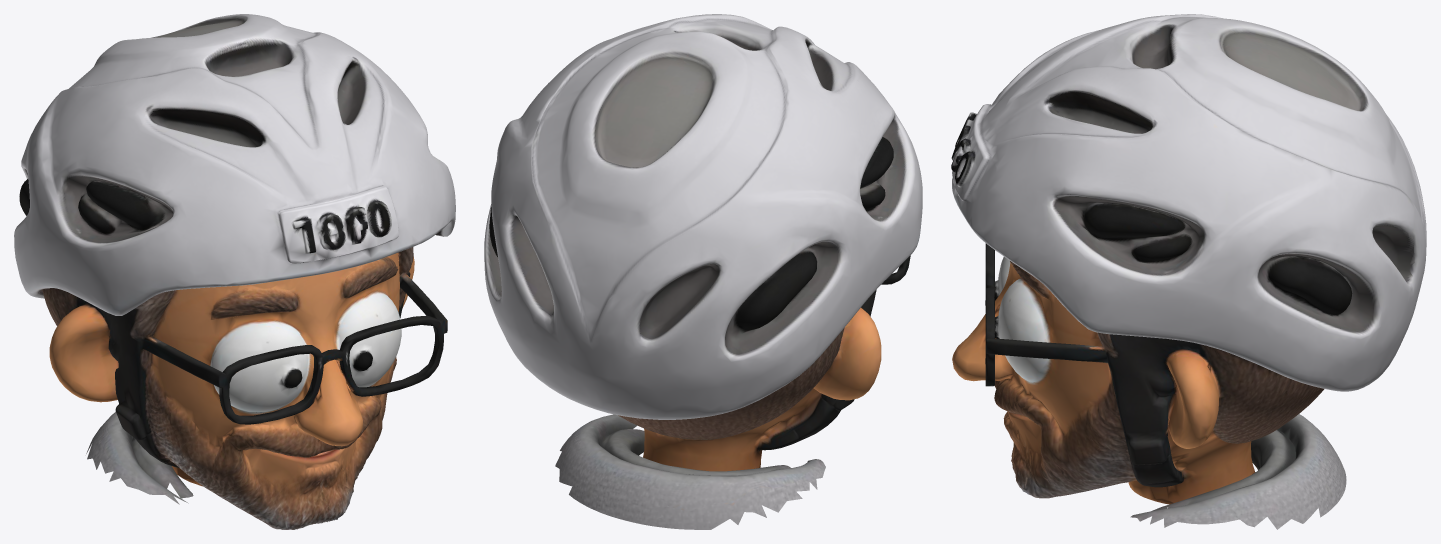
Rendered from doug-head.glb.
3 views of the same model, side by side, from view 1: azimuth 30°, elevation 25°; view 2: azimuth 150°, elevation 25°; view 3: azimuth 270°, elevation 25° (orthographic). The views are drawn at different scales.
Parts seen in each view (by area): view 1: Face; view 2: Face; view 3: Face.
Part boxes in pixels (bbox=[...]): Face: bbox=[14, 14, 455, 529]; Face: bbox=[484, 14, 922, 529]; Face: bbox=[951, 14, 1426, 529].
Size of what is drawn, in the model's own units: 0.9114 by 1.04 by 1.
Materials: 2 (1 with a texture image).
